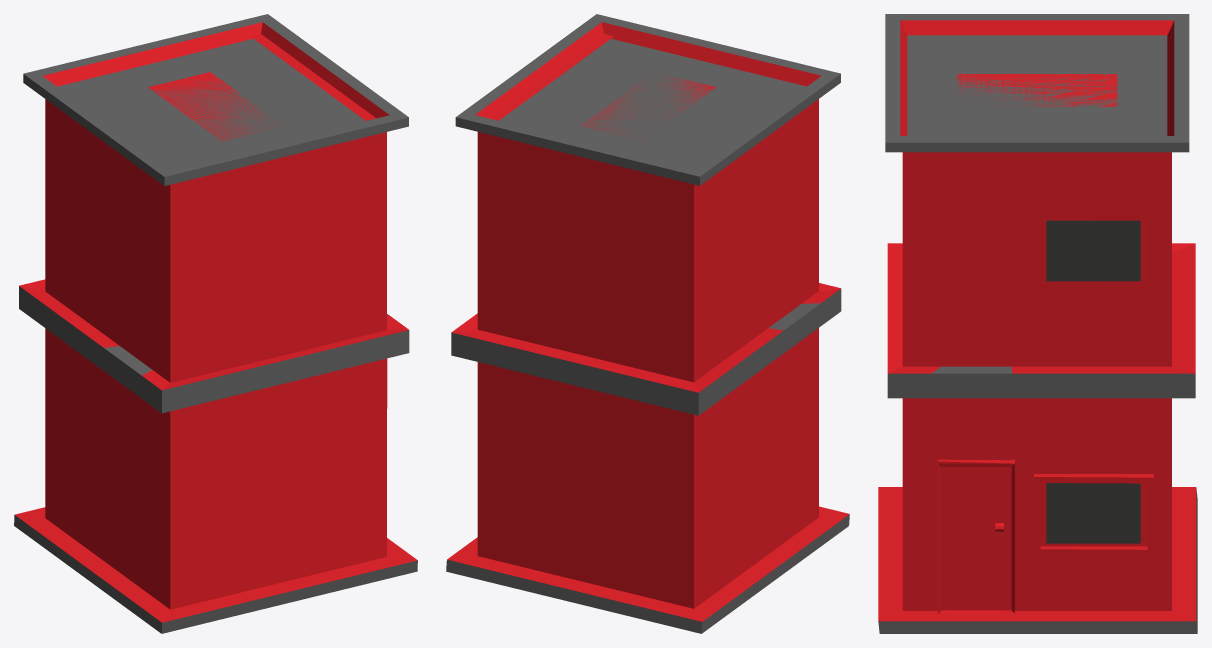
File: Blender_2.fbx
The picture shows the model from 3 angles, left to right: view 1: azimuth 30°, elevation 25°; view 2: azimuth 150°, elevation 25°; view 3: azimuth 270°, elevation 25°; orthographic projection. The views are drawn at different scales.
Visible parts, largest first — view 1: Cube, Cube.003; view 2: Cube, Cube.003; view 3: Cube, Cube.002, Cube.001, Cube.007, Cube.009, Cube.003.
Part boxes in pixels (x1=…): Cube: x1=14, y1=14, x2=417, y2=633; Cube.003: x1=148, y1=72, x2=280, y2=141; Cube: x1=446, y1=14, x2=849, y2=633; Cube.003: x1=581, y1=74, x2=716, y2=138; Cube: x1=878, y1=14, x2=1197, y2=633; Cube.002: x1=902, y1=152, x2=1171, y2=610; Cube.001: x1=902, y1=398, x2=1171, y2=610; Cube.007: x1=902, y1=152, x2=1171, y2=610; Cube.009: x1=1034, y1=212, x2=1153, y2=555; Cube.003: x1=957, y1=74, x2=1117, y2=106.
Bounding box in the file's own units: 509 × 861 × 510.
